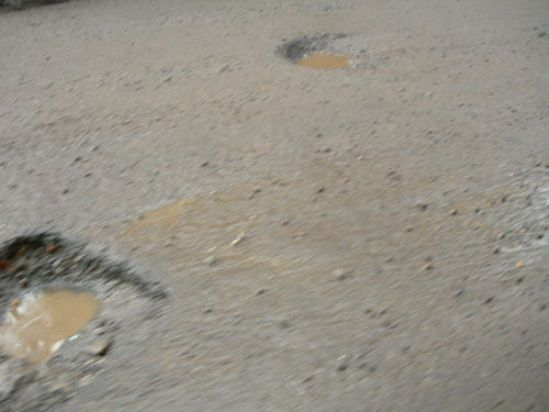pothole: (0, 223, 174, 370), (274, 25, 363, 73)
